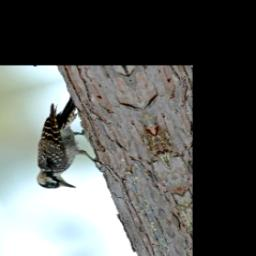Woodpecker: (3, 92, 116, 197)
